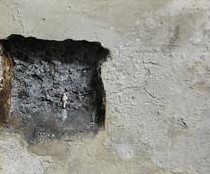Spalling: (1, 33, 111, 146)
